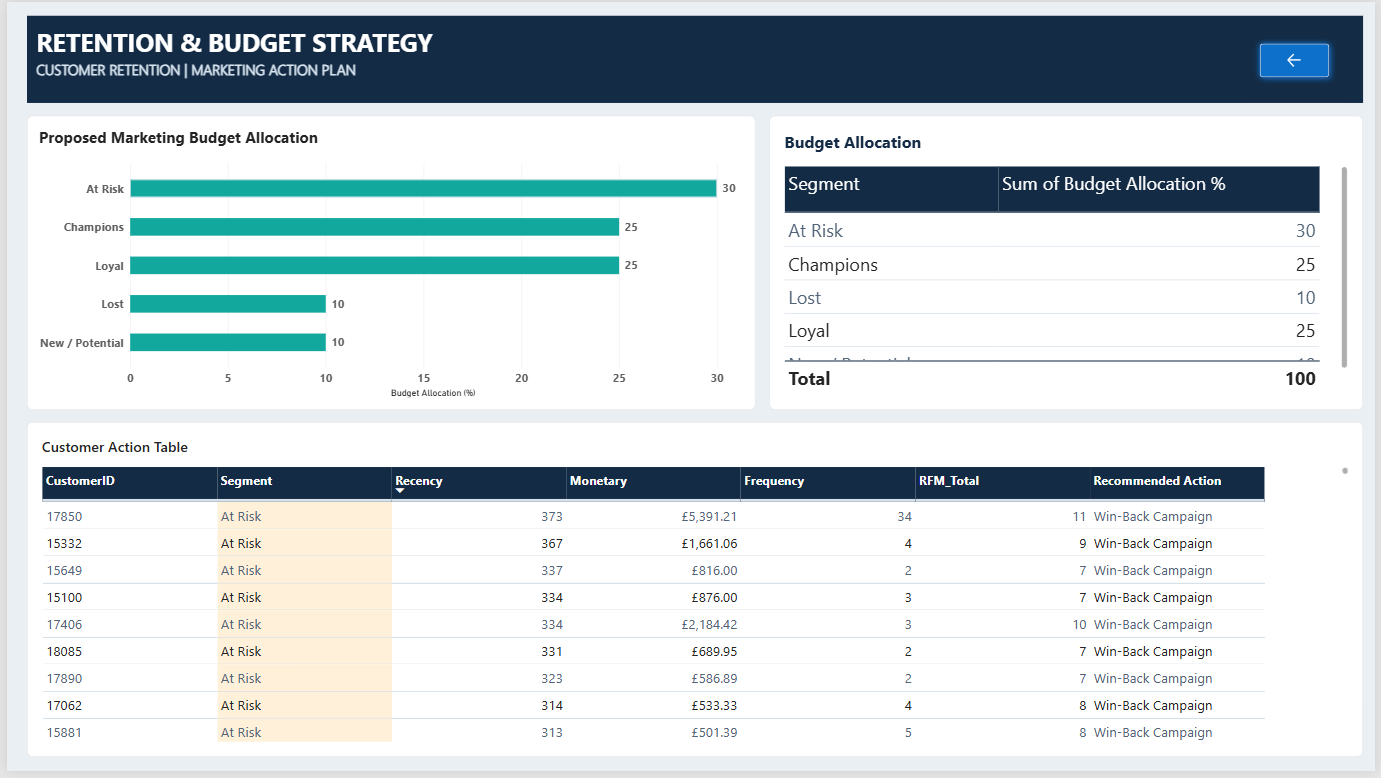

What the dashboard file says about the page in this screenshot:
{"tool":"powerbi","page":{"name":"Retention & Budget Strategy","canvas":[1920,1080],"ordinal":1},"visuals":[{"type":"tableEx","title":"Customer Action Table","fields":{"Values":["customer_rfm.CustomerID","customer_rfm.Segment","customer_rfm.Recency","customer_rfm.Monetary","customer_rfm.Frequency","customer_rfm.RFM_Total","customer_rfm.Recommended Action"]},"box":[28.3,588.7,1875.5,469.8],"z":0},{"type":"clusteredBarChart","title":"Proposed Marketing Budget Allocation","fields":{"Category":["Budget Allocation.Segment"],"Y":["Sum(Budget Allocation.Budget Allocation %)"]},"box":[27.5,160,1022.5,412.5],"z":1000},{"type":"textbox","title":"RETENTION & BUDGET STRATEGY","box":[27.5,20,1875,122.5],"z":1002},{"type":"tableEx","title":"Budget Allocation","fields":{"Values":["Budget Allocation.Segment","Sum(Budget Allocation.Budget Allocation %)"]},"box":[1070,160,832.5,412.5],"z":1003},{"type":"actionButton","box":[1735,35,145,95],"z":1004}]}

Visuals, with their boxes in screenshot pixels (x1, y1, x2, y2), scaled from the page's 1920x1080 canvas onto the 1381x778 screenshot:
"Customer Action Table" tableEx: select_region(20, 424, 1369, 763)
"Proposed Marketing Budget Allocation" clusteredBarChart: select_region(20, 115, 755, 412)
"RETENTION & BUDGET STRATEGY" textbox: select_region(20, 14, 1368, 103)
"Budget Allocation" tableEx: select_region(770, 115, 1368, 412)
actionButton: select_region(1248, 25, 1352, 94)
